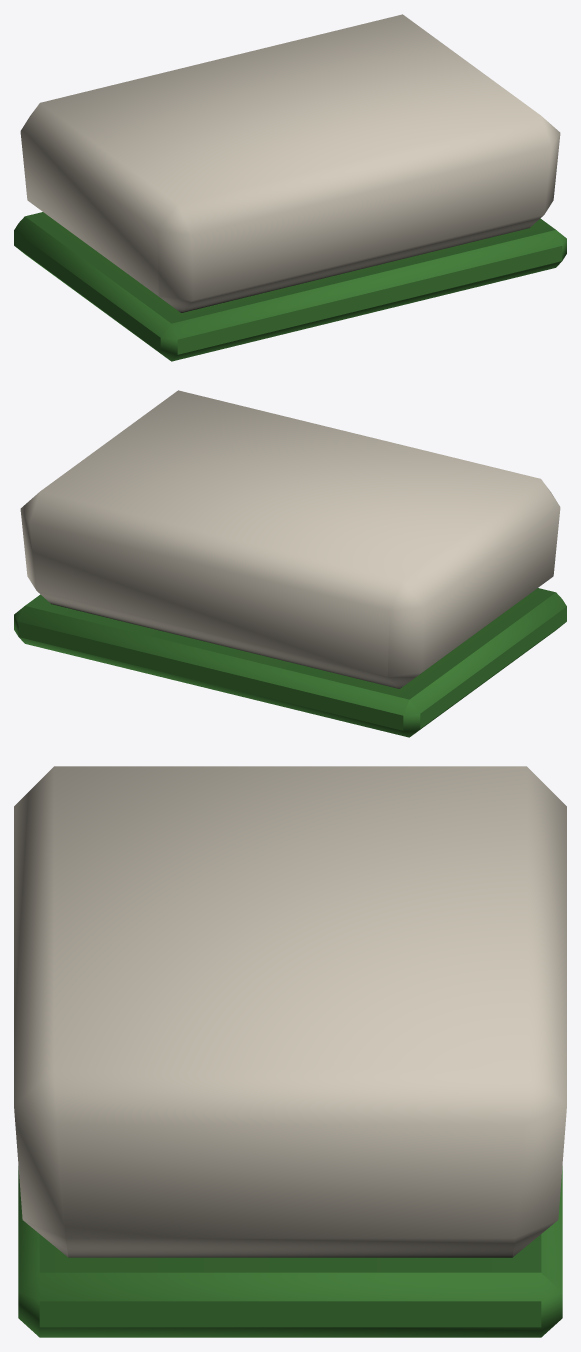
The model's file is sponge.glb.
3 views of the same model, one above another, from view 1: azimuth 30°, elevation 25°; view 2: azimuth 150°, elevation 25°; view 3: azimuth 270°, elevation 25° (orthographic). The views are drawn at different scales.
Parts seen in each view (by area): view 1: foam, scourer; view 2: foam, scourer; view 3: foam, scourer.
Boxes of the visible parts, x1=… form: foam: x1=20, y1=14, x2=560, y2=312; scourer: x1=14, y1=212, x2=566, y2=361; foam: x1=20, y1=390, x2=560, y2=688; scourer: x1=14, y1=588, x2=566, y2=737; foam: x1=14, y1=766, x2=566, y2=1257; scourer: x1=18, y1=1166, x2=562, y2=1337.
Bounding box in the file's own units: 0.112 × 0.04 × 0.0772.
